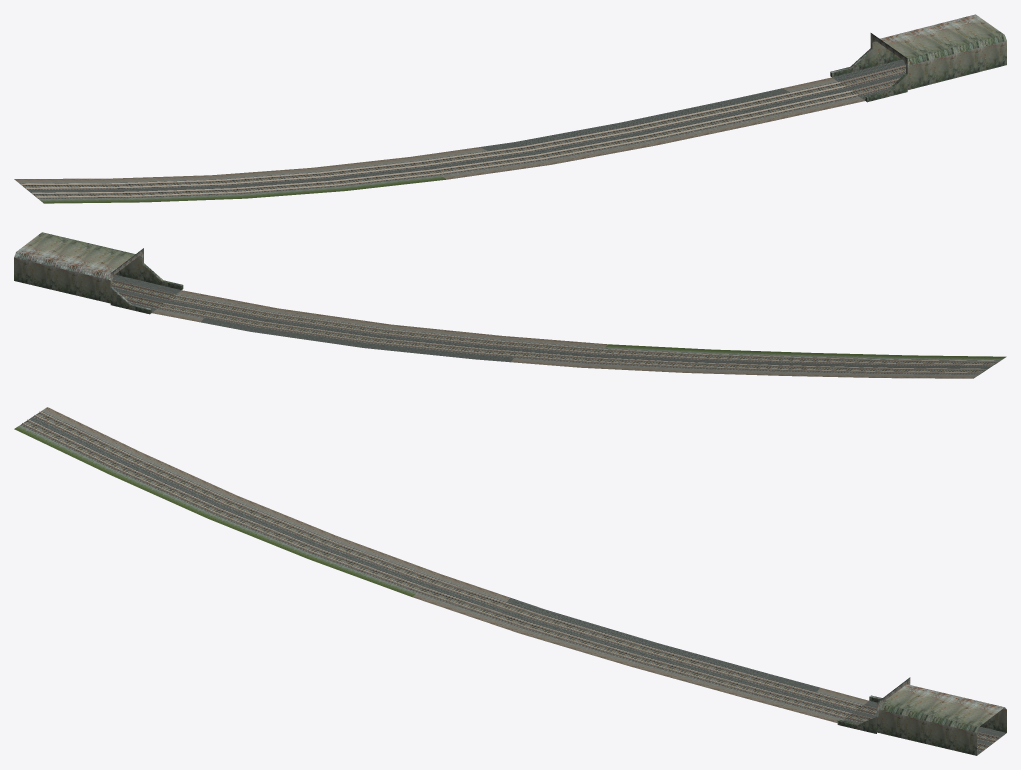
The model's file is cuntwrail12.obj.
3 renders of one model, top to bottom at view 1: azimuth 30°, elevation 25°; view 2: azimuth 150°, elevation 25°; view 3: azimuth 330°, elevation 25°, orthographic. The views are drawn at different scales.
Parts seen in each view (by area): view 1: cuntwrail12; view 2: cuntwrail12; view 3: cuntwrail12.
Boxes of the visible parts, x1=… form: cuntwrail12: x1=14, y1=14, x2=1006, y2=203; cuntwrail12: x1=14, y1=232, x2=1006, y2=378; cuntwrail12: x1=14, y1=407, x2=1006, y2=755.
Bounding box in the file's own units: 193 × 22.59 × 19.42.
